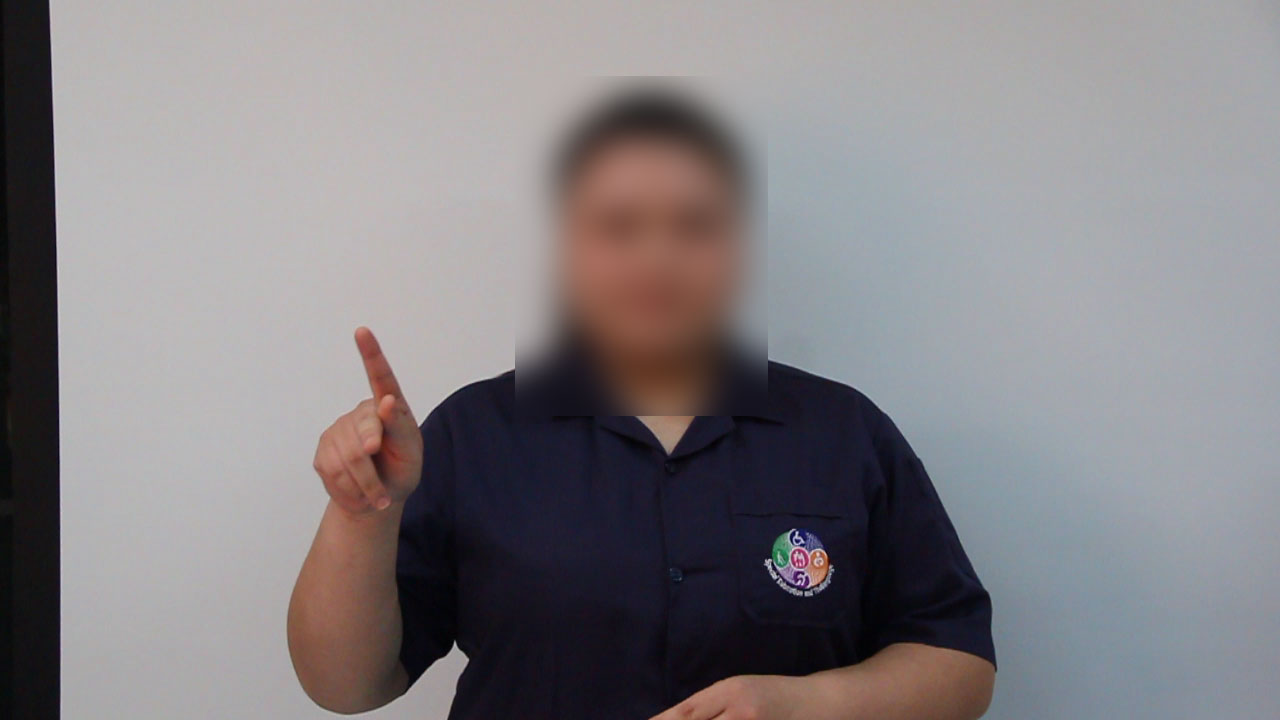ko: (285, 321, 448, 522)
